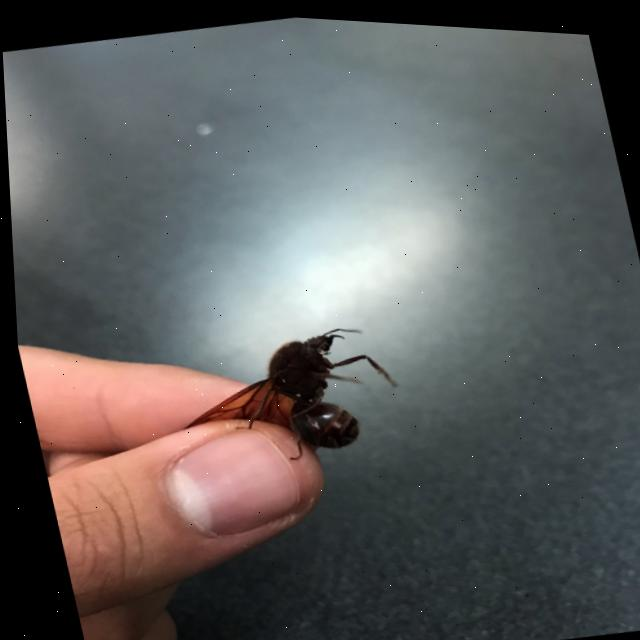Alive-Male-Alate: (131, 306, 413, 502)
